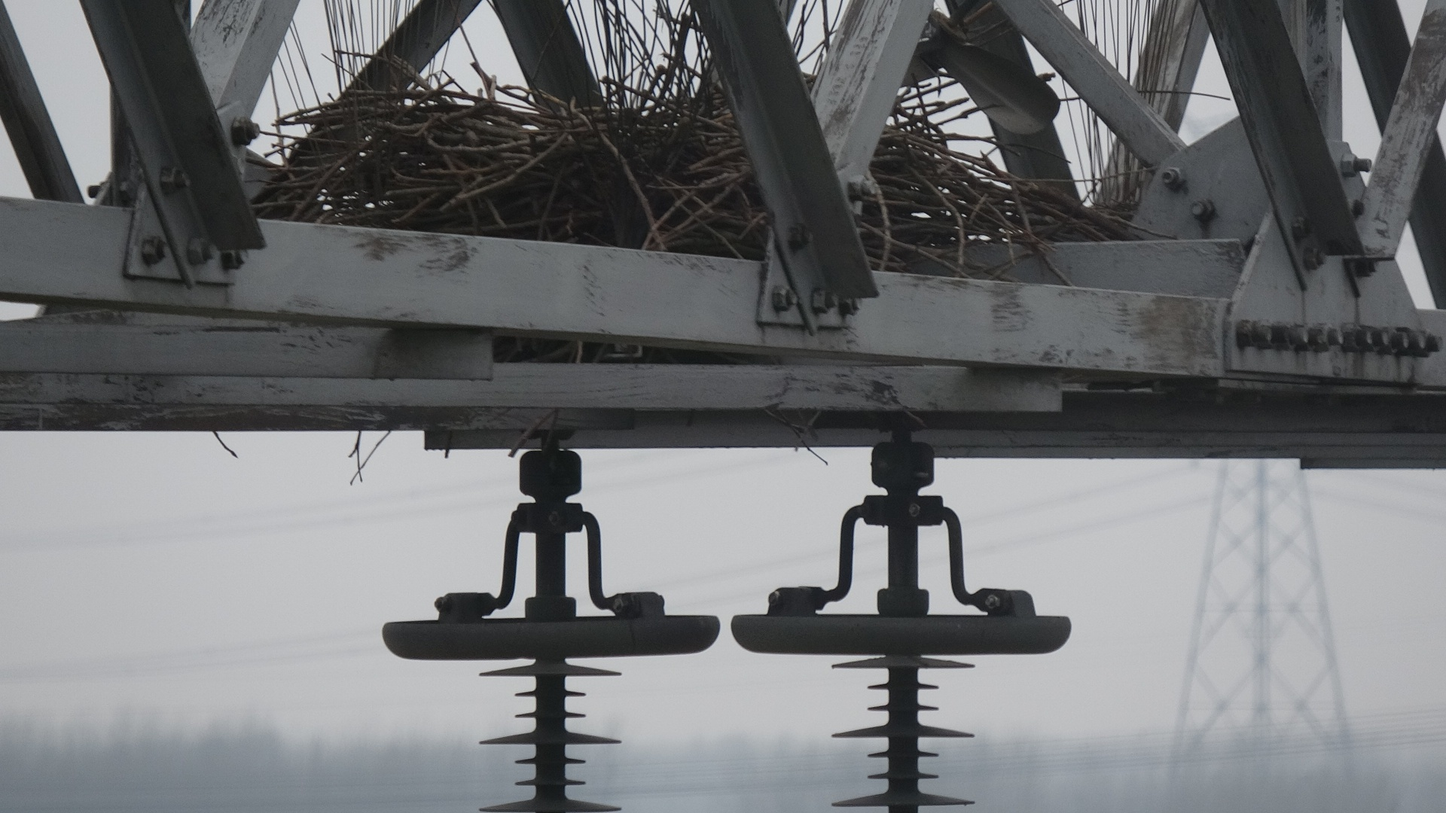insulator: (825, 654, 984, 813), (472, 660, 633, 813)
